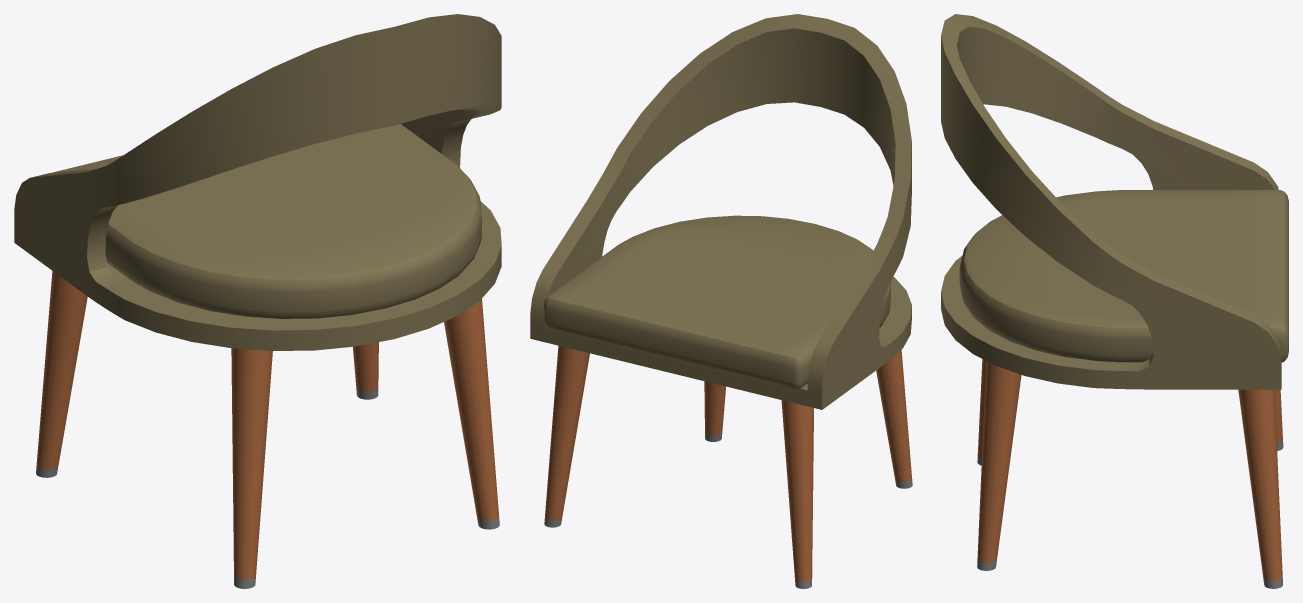
The model's file is Chair_Single_04.glb.
3 renders of one model, left to right at view 1: azimuth 30°, elevation 25°; view 2: azimuth 150°, elevation 25°; view 3: azimuth 270°, elevation 25°, orthographic. The views are drawn at different scales.
Parts seen in each view (by area): view 1: Mesh_Chair_Single_04; view 2: Mesh_Chair_Single_04; view 3: Mesh_Chair_Single_04.
Part boxes in pixels (box(x1,y1,x2,y2)): Mesh_Chair_Single_04: box(14, 14, 501, 588); Mesh_Chair_Single_04: box(530, 14, 912, 588); Mesh_Chair_Single_04: box(941, 14, 1288, 588).
Bounding box in the file's own units: 0.5 × 0.7 × 0.4597.
Materials: 1 (1 with a texture image).
